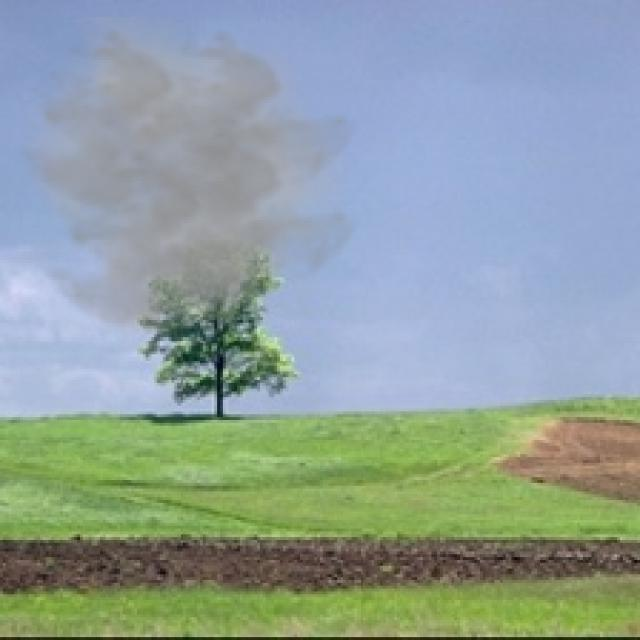smoke: (14, 17, 360, 363)
